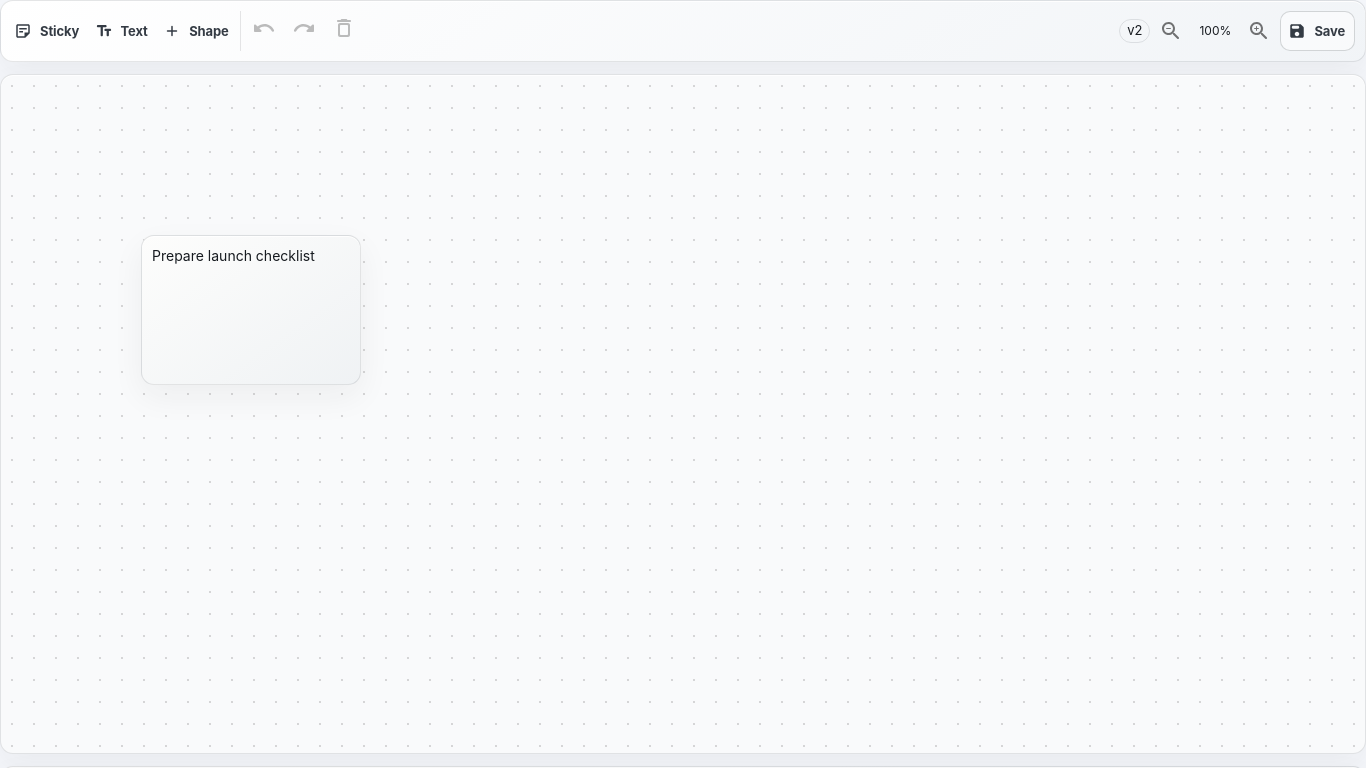
Test: WhiteboardEditor › converts a sticky node to an ordinary project task
Press the mouse on the element named "Sticky node" at {"x": 251, "y": 310}, box x1=141 y1=235 x2=361 y2=385
(page scrolled)
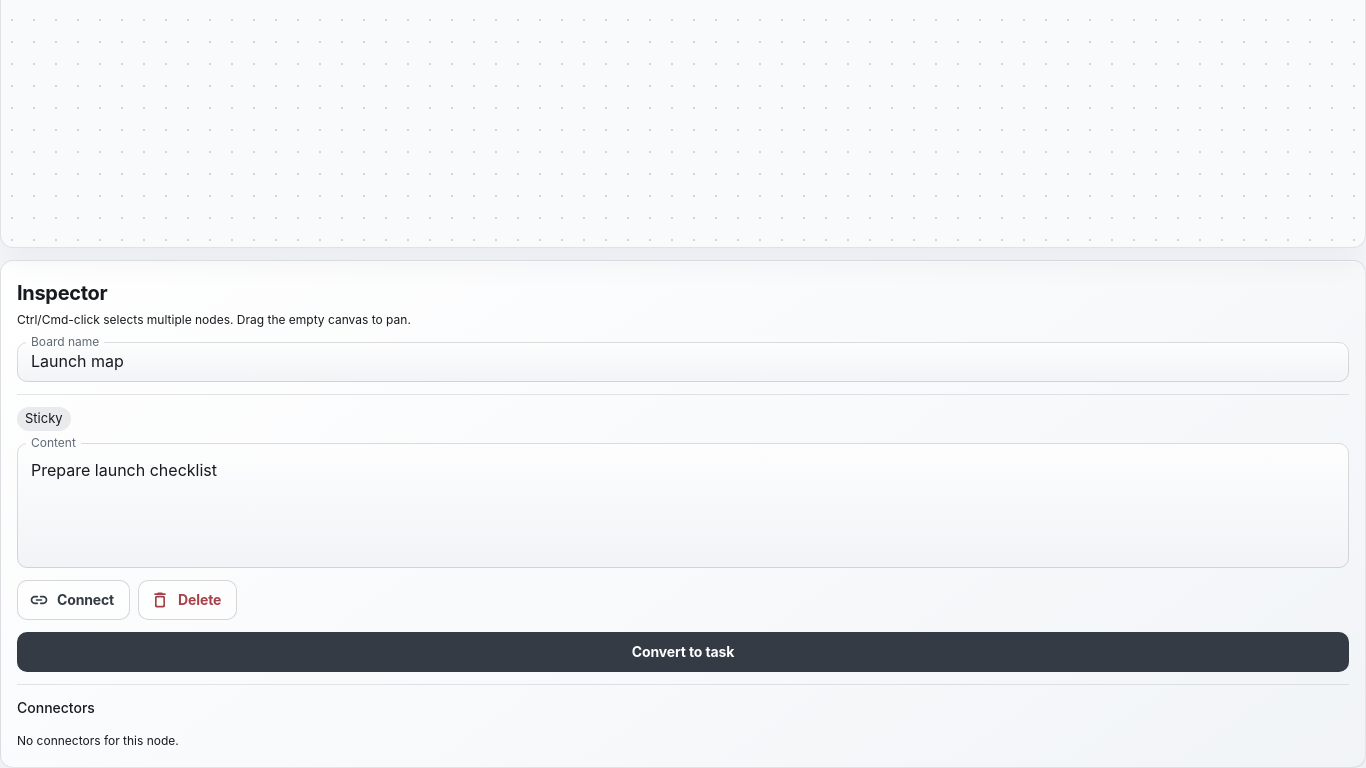
Click the button "Convert to task" at {"x": 683, "y": 652}, box x1=17 y1=632 x2=1349 y2=672
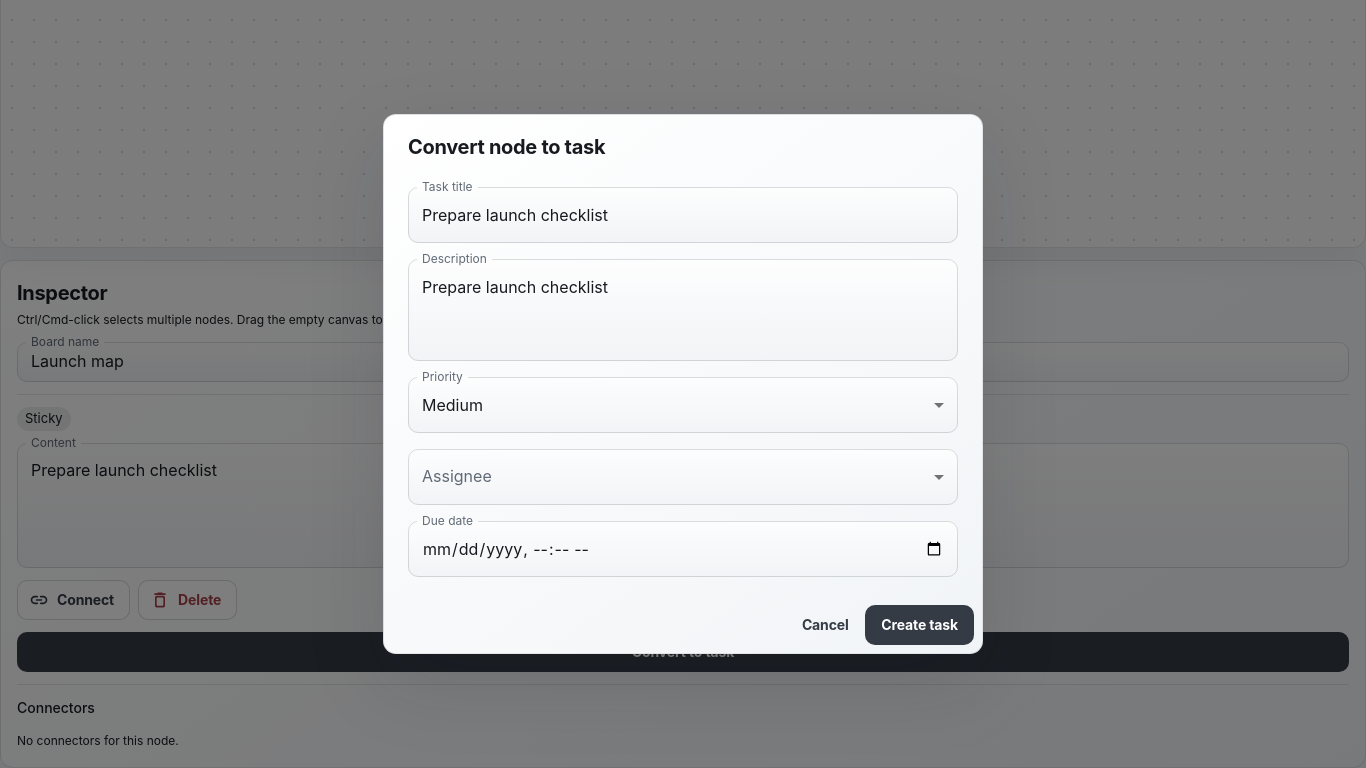
Replace the text in the field labelled "Task title" with "Ship launch checklist" at {"x": 683, "y": 215}, box x1=408 y1=187 x2=958 y2=243
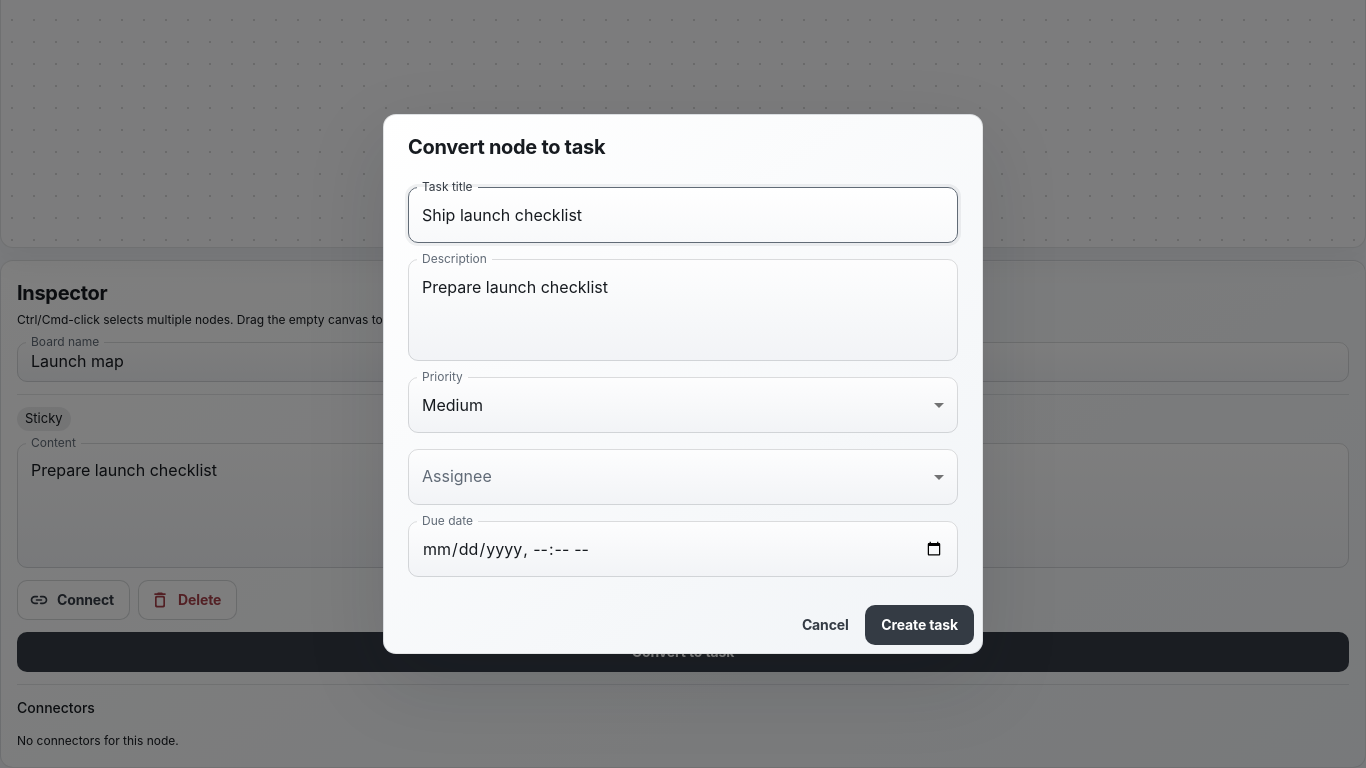
Click the button "Create task" at {"x": 920, "y": 625}, box x1=865 y1=605 x2=974 y2=645
(page scrolled)
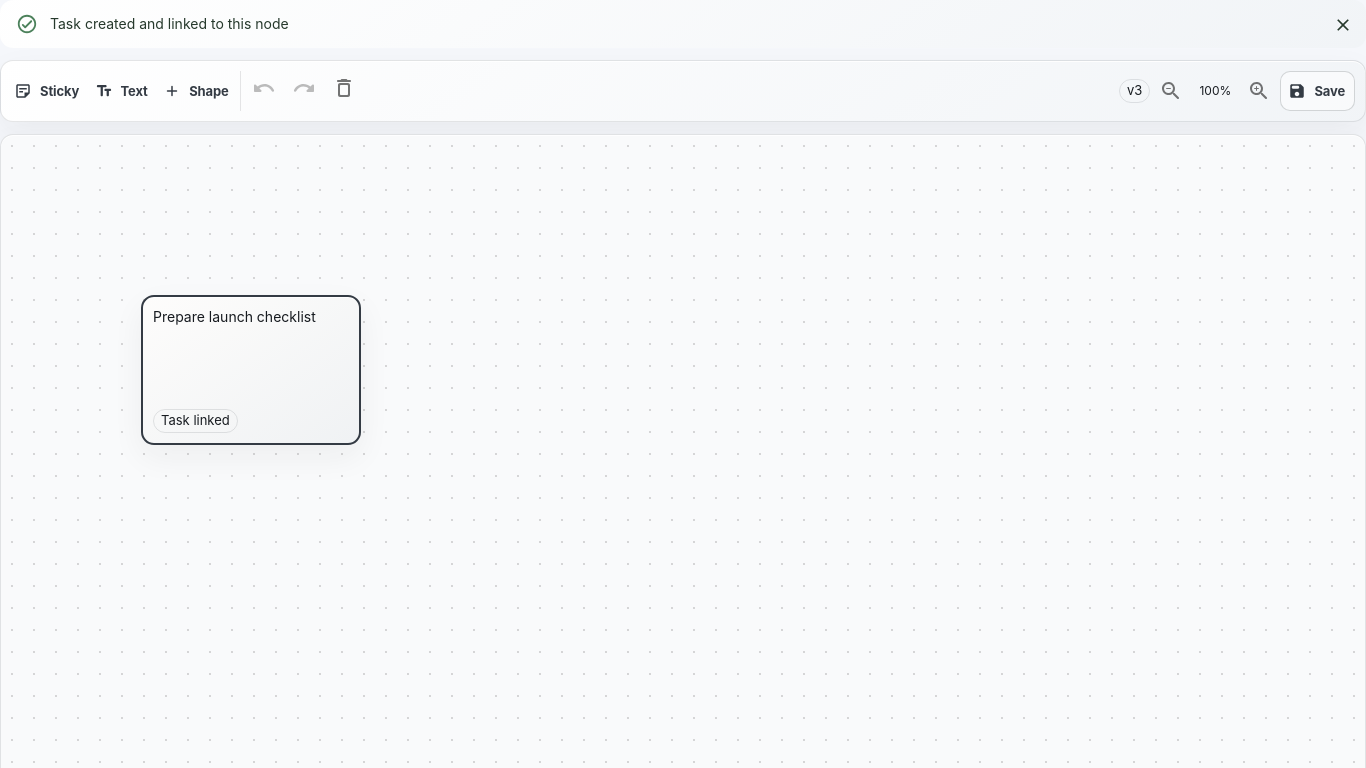
expect the text "Task created and linked to this node" is shown: met, box x1=50 y1=15 x2=289 y2=32
expect the text "Task linked" is shown: met, box x1=161 y1=412 x2=230 y2=428
expect the text "v3" is shown: met, box x1=1127 y1=82 x2=1142 y2=98
